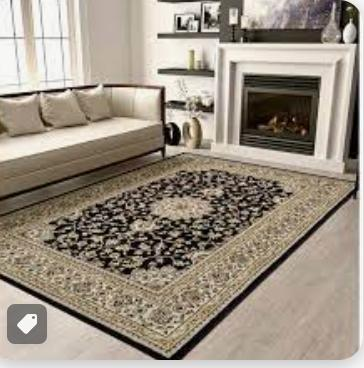carpet: (0, 125, 354, 368)
